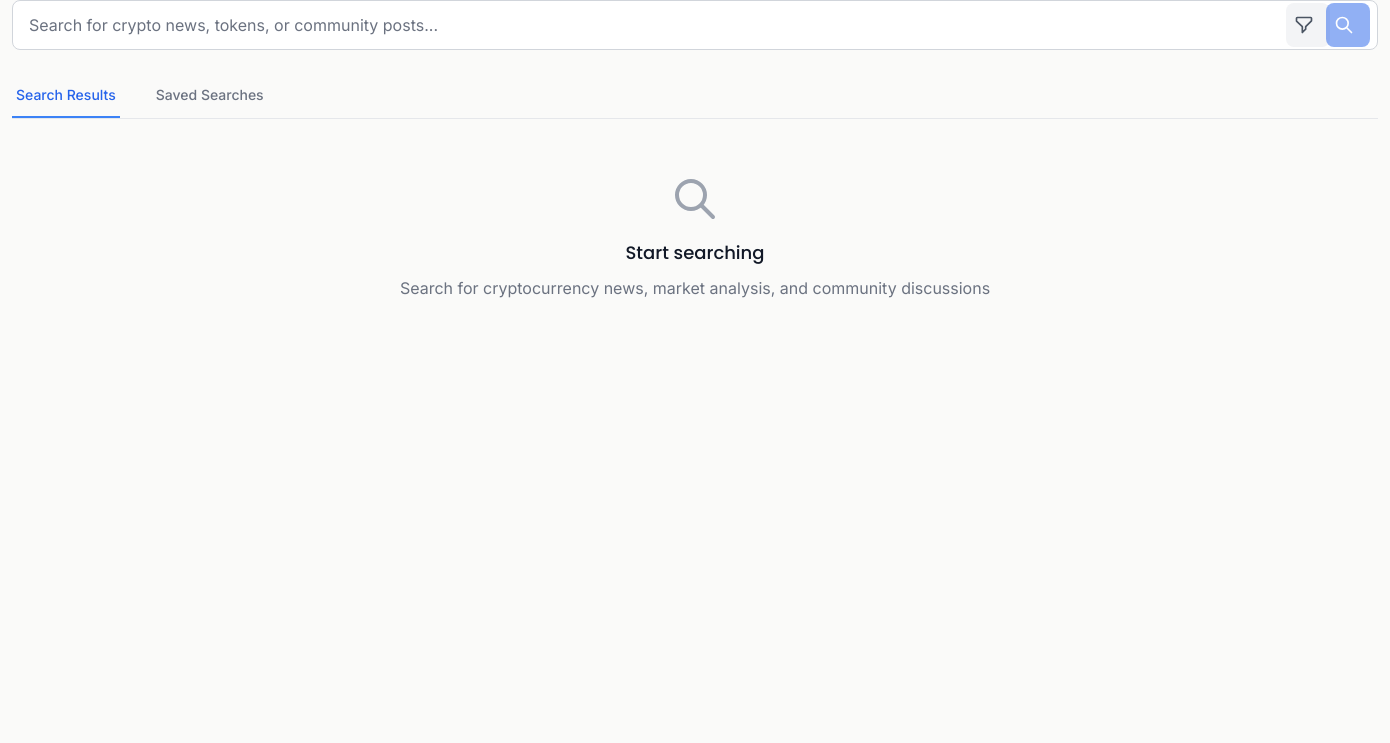
Test case: SearchInterface Component › 2. Advanced Filtering Options › should show filter count and allow clearing filters
Click the button named "filters": (1308, 25) [1286,3,1330,47]
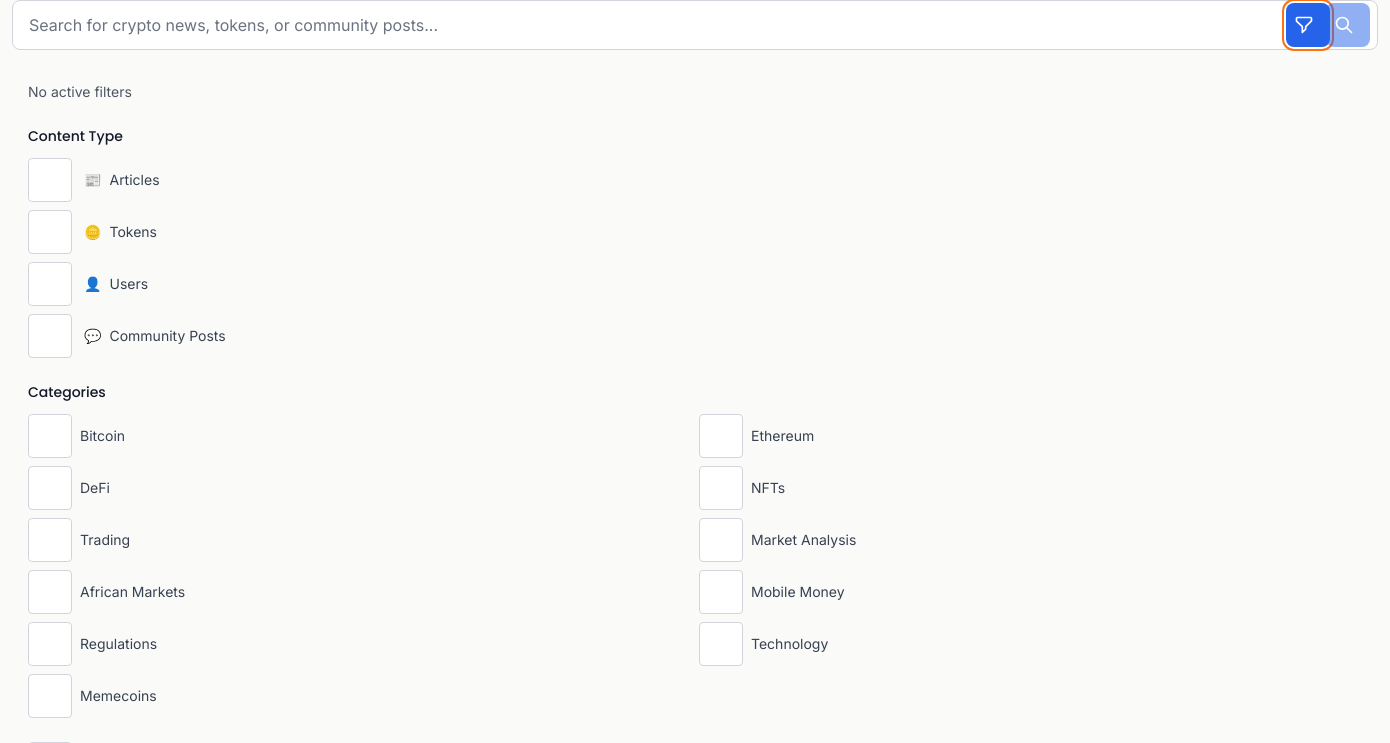
Click the checkbox labelled "📰 Articles": (50, 180) [28,158,72,202]
(page scrolled)
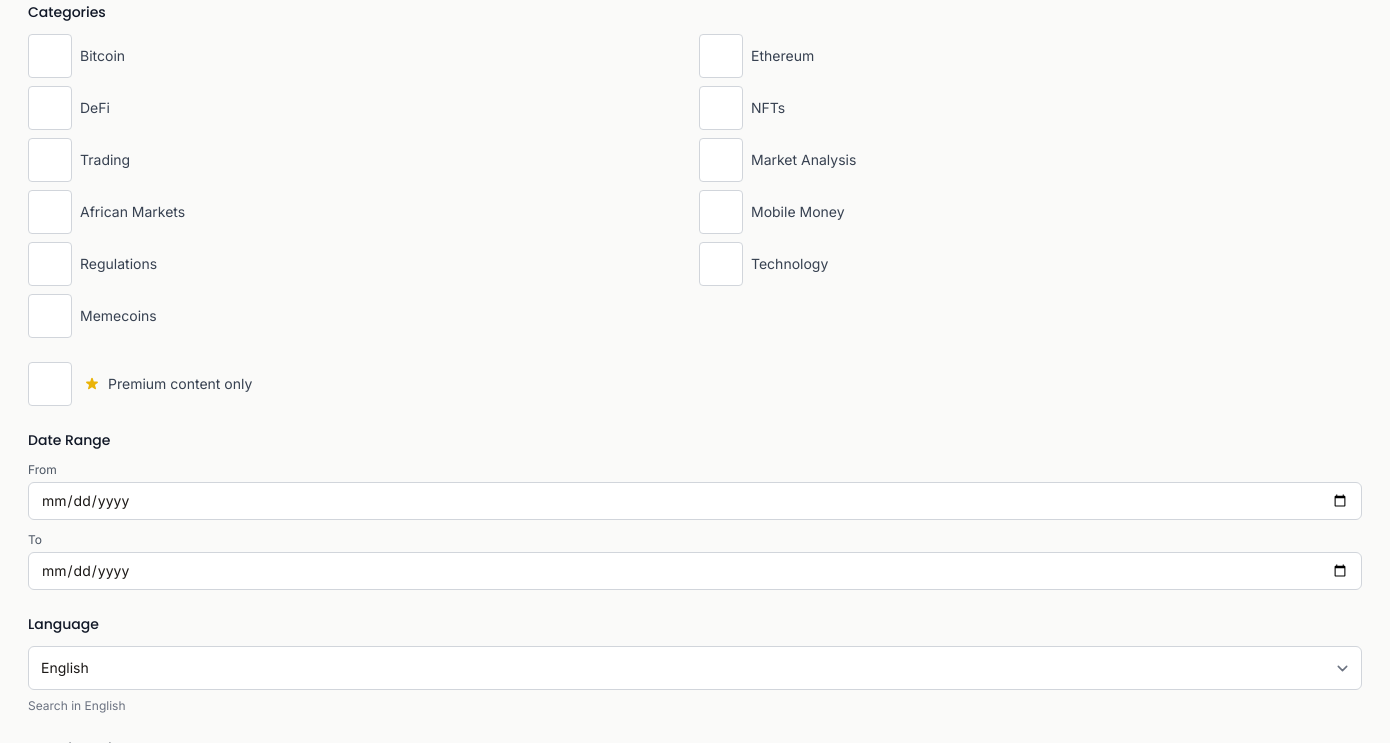
Click the checkbox labelled "Premium content only": (50, 384) [28,362,72,406]
(page scrolled)
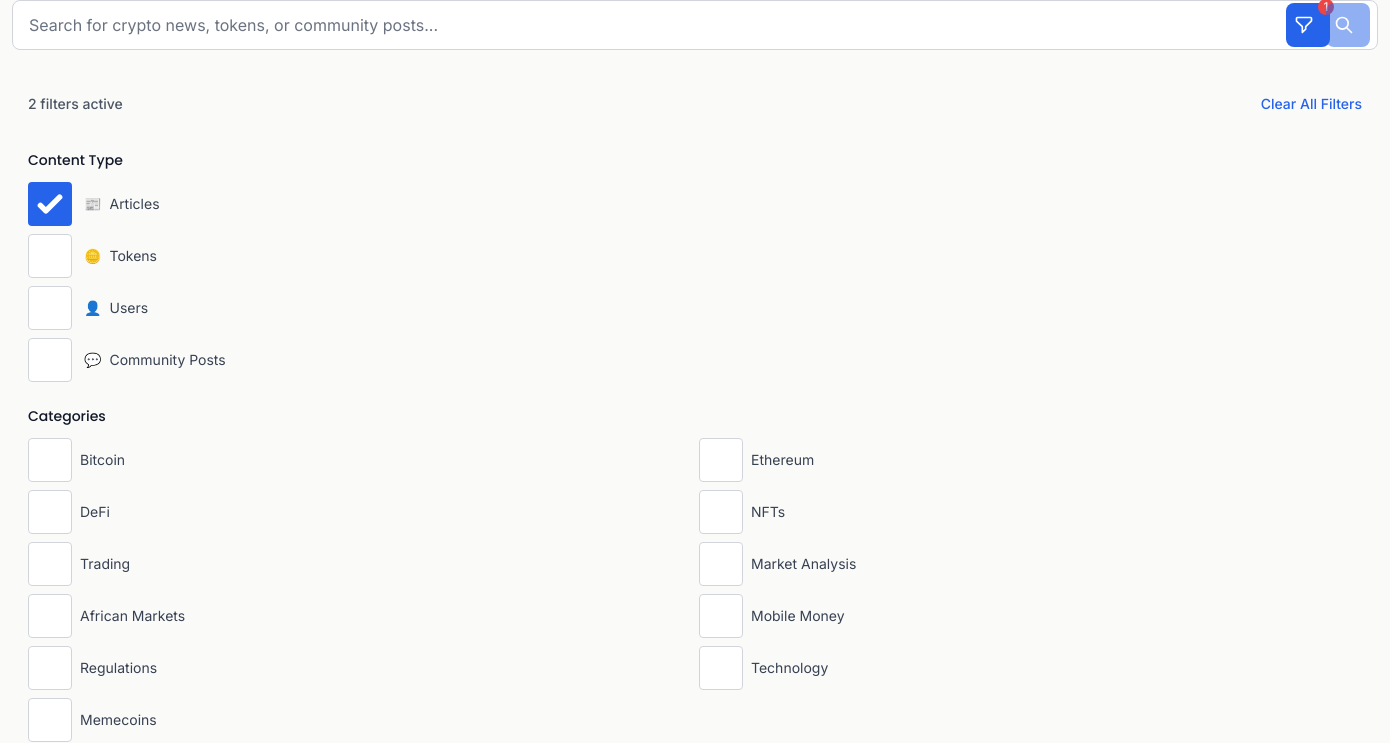
expect the text "2 filters active" is shown: met, box [28,95,123,112]
Note: Clear all filters
Click the button "Clear All Filters": (1311, 104) [1261,82,1362,126]
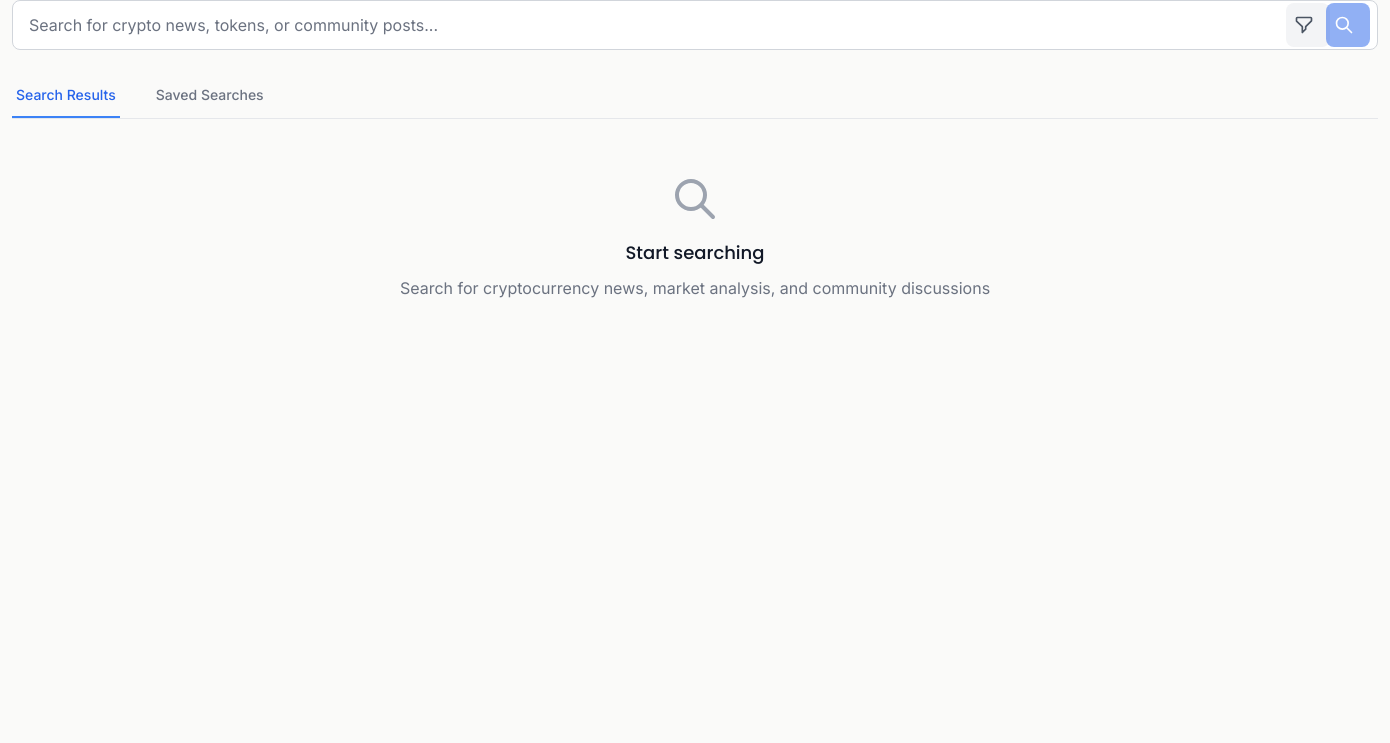
expect the text "2 filters active" is gone: met
